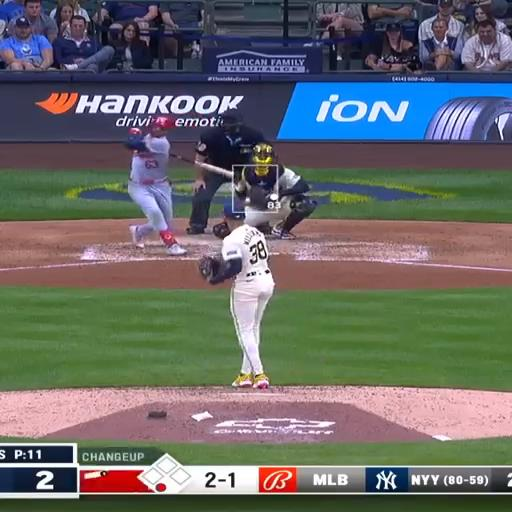bat: (169, 153, 232, 179)
